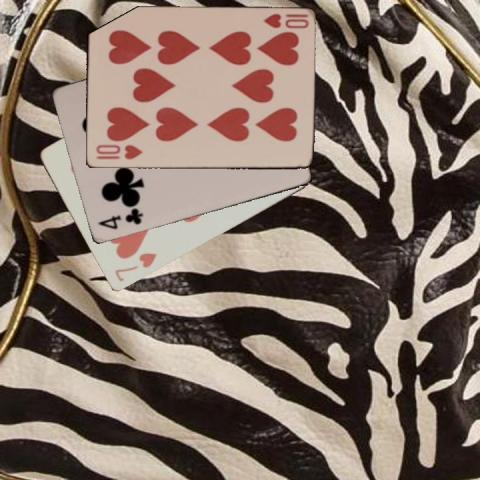10h: (93, 142, 144, 161), (260, 11, 309, 30)
4c: (95, 206, 144, 231)
7h: (111, 250, 159, 284)
